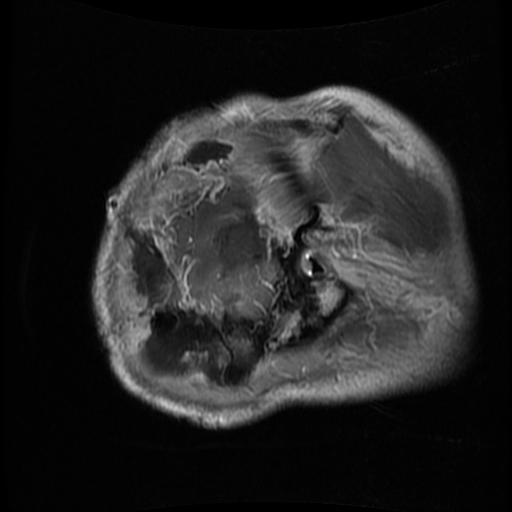glioma: (144, 303, 256, 376)
